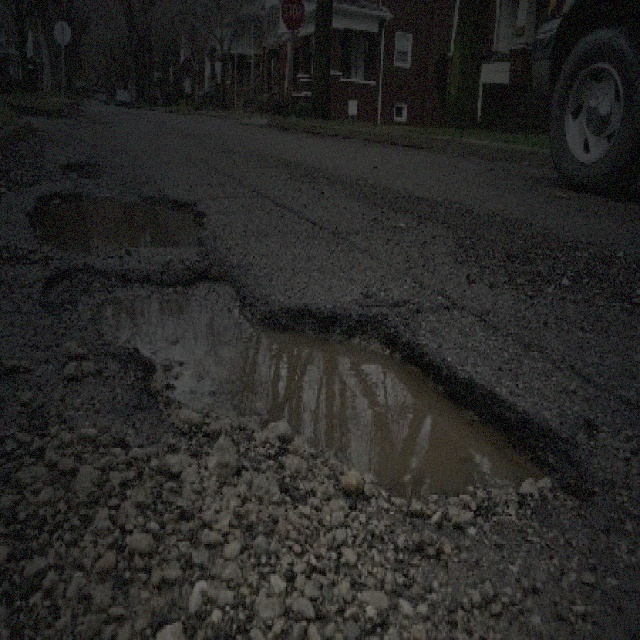pothole: (37, 264, 586, 520), (23, 186, 206, 256), (57, 154, 101, 179)
